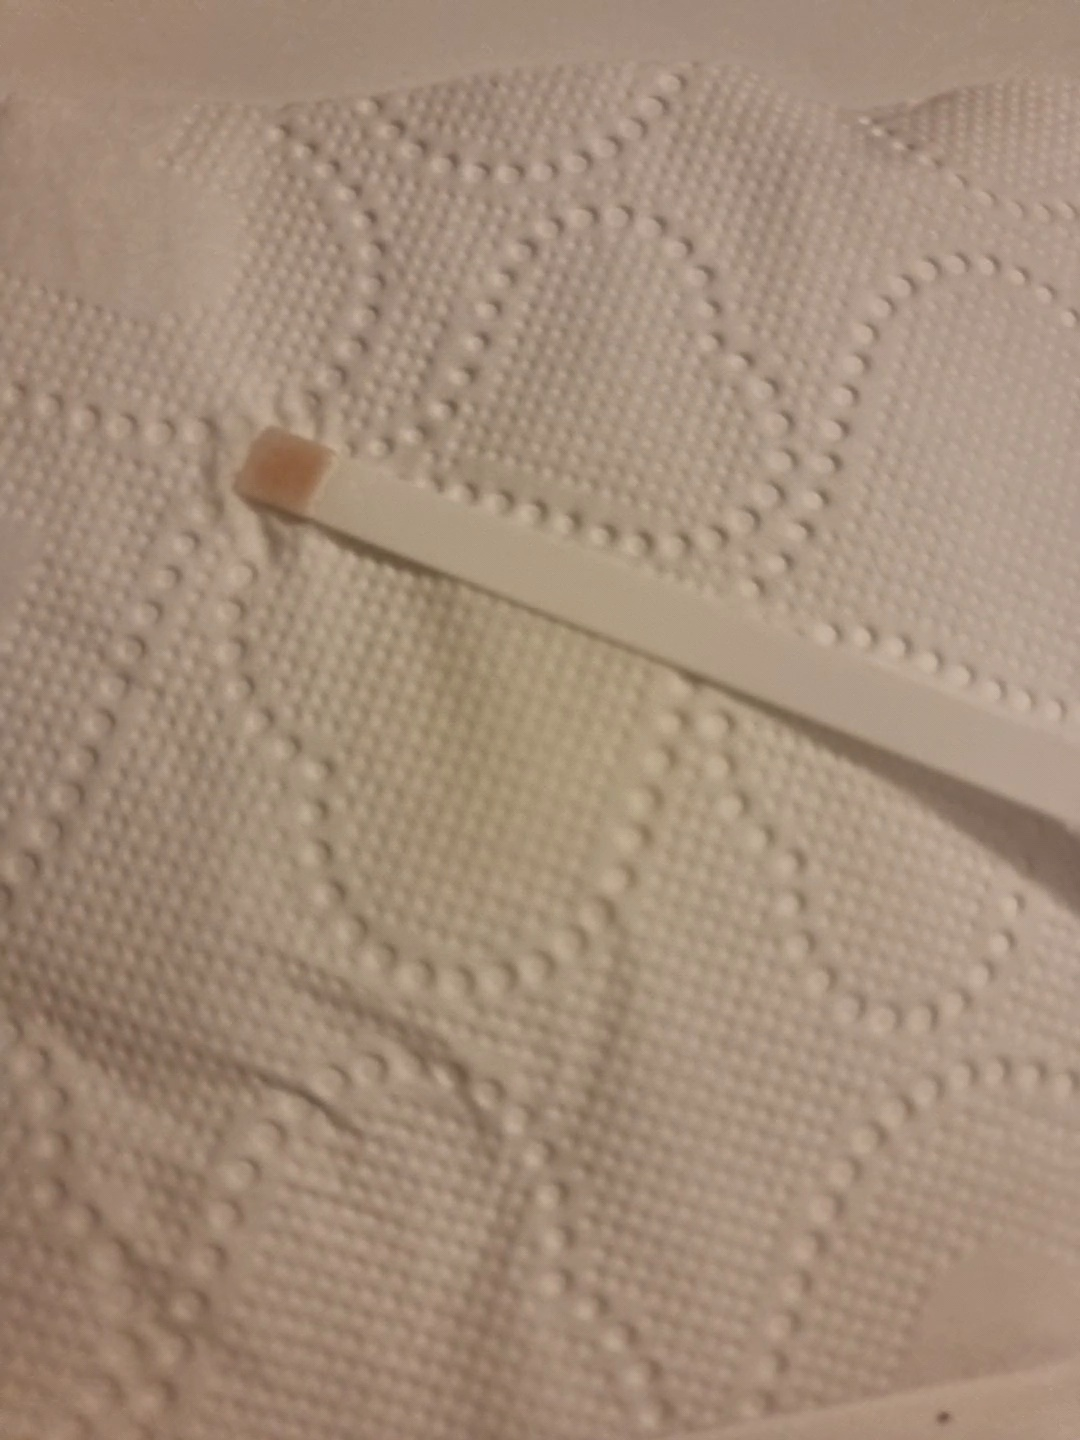keto-tip: (231, 424, 341, 524)
